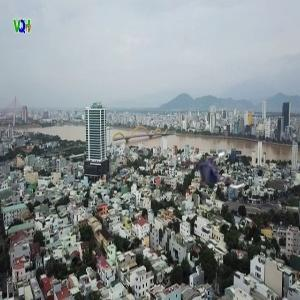drone: (176, 137, 248, 209)
